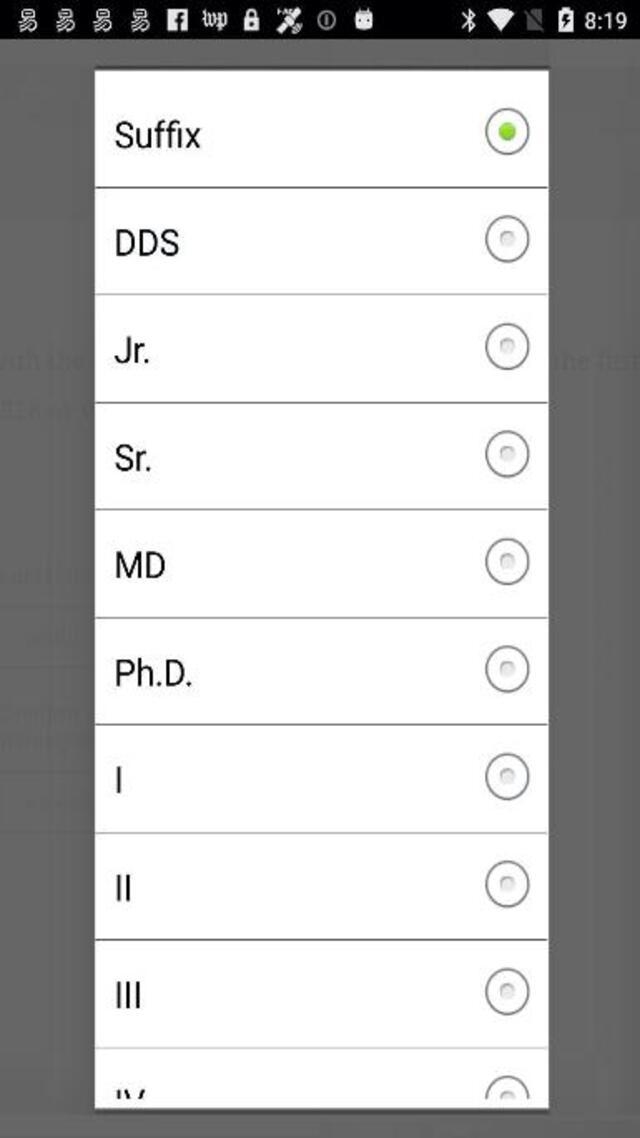CheckedTextView: (116, 860, 528, 908), (114, 323, 530, 370), (116, 967, 528, 1014), (117, 752, 528, 799), (116, 108, 530, 154), (116, 430, 530, 476), (116, 216, 528, 262), (116, 539, 528, 585), (116, 646, 528, 692)
Text: (116, 120, 200, 148), (116, 658, 190, 686), (117, 228, 179, 256), (118, 550, 166, 577), (115, 337, 148, 364), (116, 444, 150, 470), (117, 982, 139, 1006), (116, 874, 130, 901), (118, 1088, 146, 1099), (118, 766, 121, 792)
